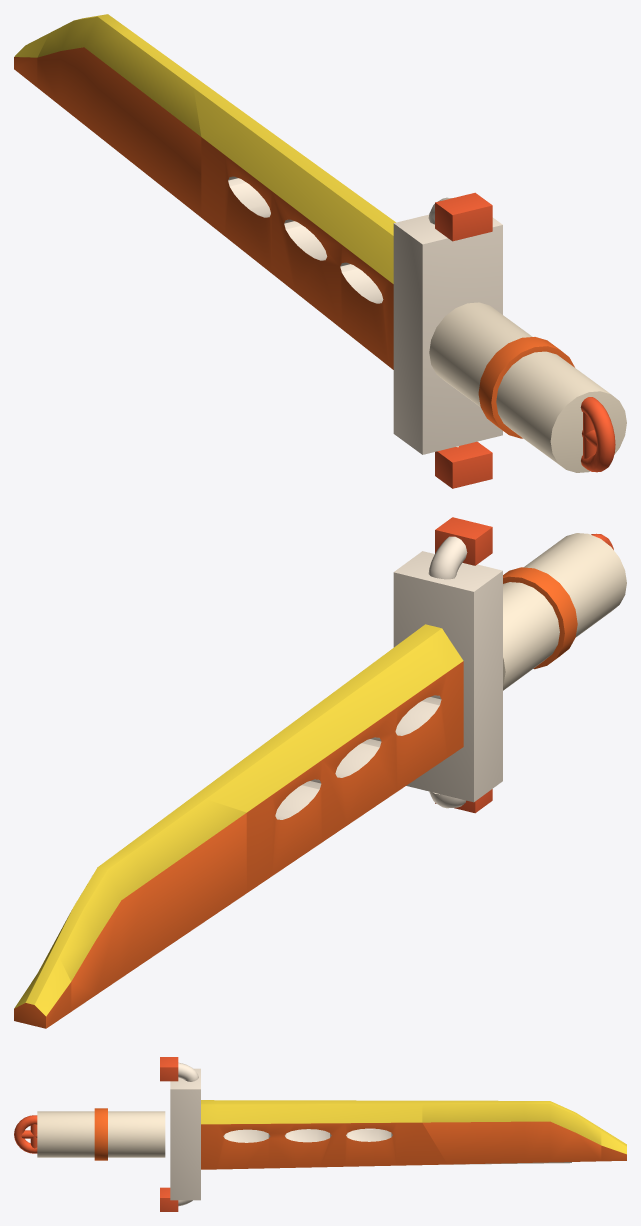
Rendered from Sword_VentSabre.glb.
The picture shows the model from 3 angles, top to bottom: view 1: azimuth 30°, elevation 25°; view 2: azimuth 150°, elevation 25°; view 3: azimuth 270°, elevation 25°; orthographic projection. The views are drawn at different scales.
Visible parts, largest first — view 1: Sword_VentSabre; view 2: Sword_VentSabre; view 3: Sword_VentSabre.
Part boxes in pixels (x1,y1,x2,y2): Sword_VentSabre: (14,14,626,488); Sword_VentSabre: (14,517,626,1028); Sword_VentSabre: (14,1057,626,1211).
Bounding box in the file's own units: 0.086 × 0.26 × 1.
1 material, 1 textured.
